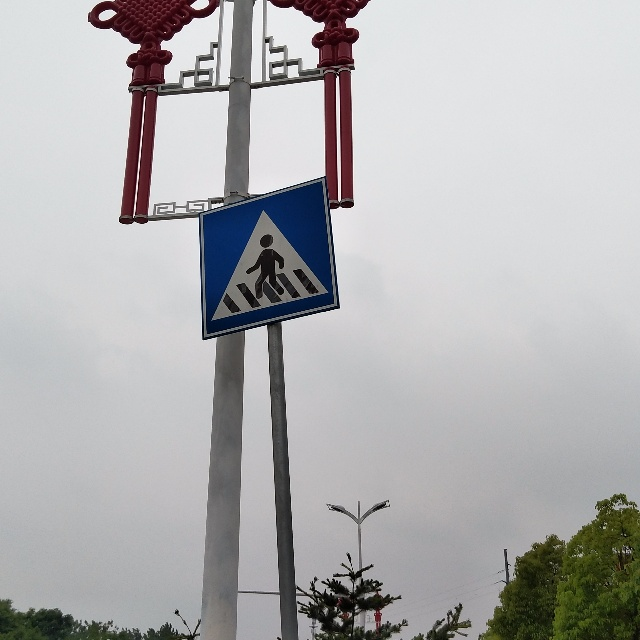crosswalk: (197, 172, 341, 338)
